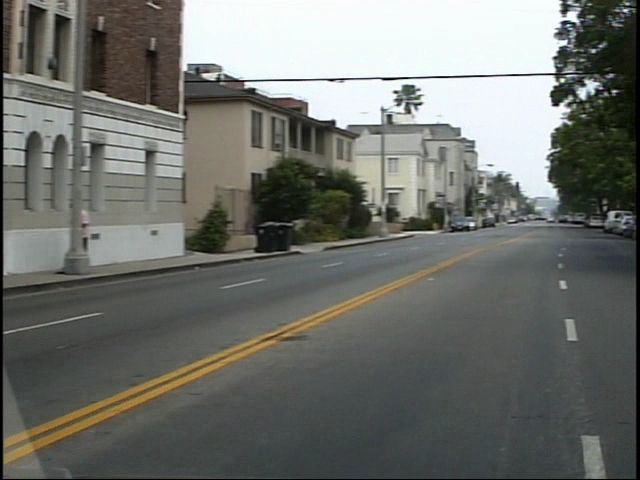person: (79, 196, 113, 274)
